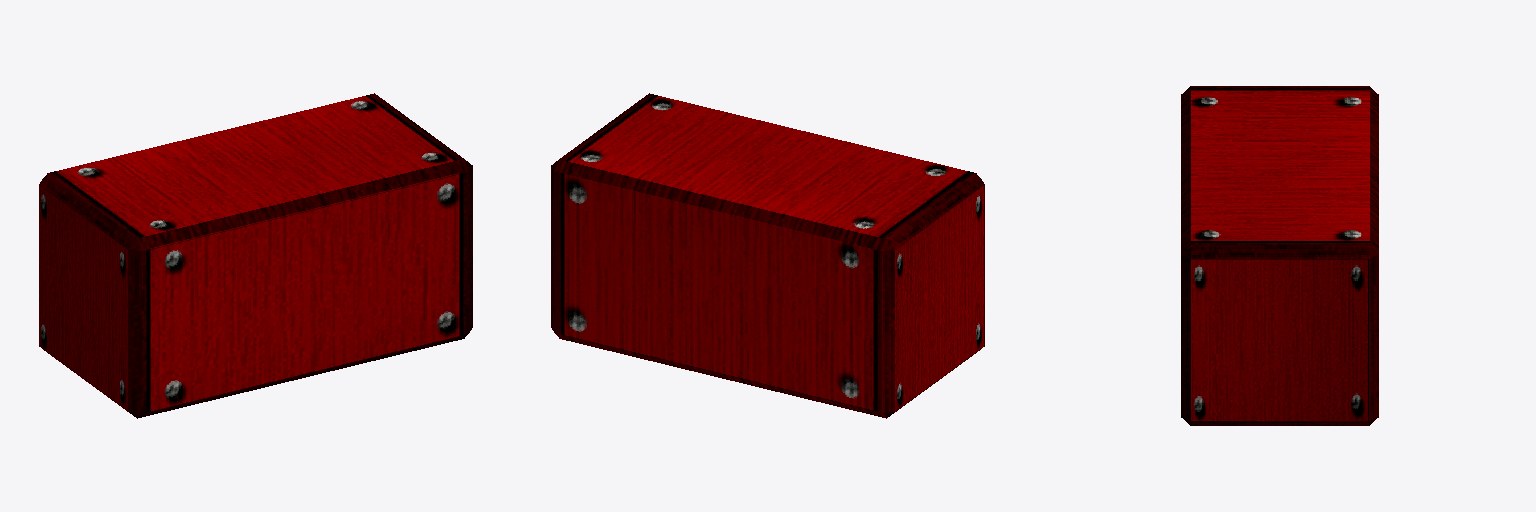
The picture shows the model from 3 angles: view 1: azimuth 30°, elevation 25°; view 2: azimuth 150°, elevation 25°; view 3: azimuth 270°, elevation 25°; orthographic projection.
Visible parts, largest first — view 1: default; view 2: default; view 3: default.
Part boxes in pixels (x1,y1,x2,y2): default: (39, 93, 472, 418); default: (551, 93, 984, 418); default: (1181, 86, 1378, 425).
Size of the model in its own units: 2 by 1 by 1.
Materials: 1 (1 with a texture image).